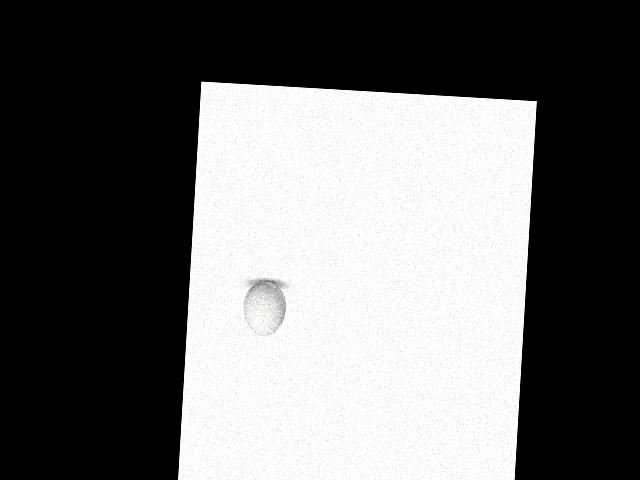egg: (241, 280, 286, 337)
